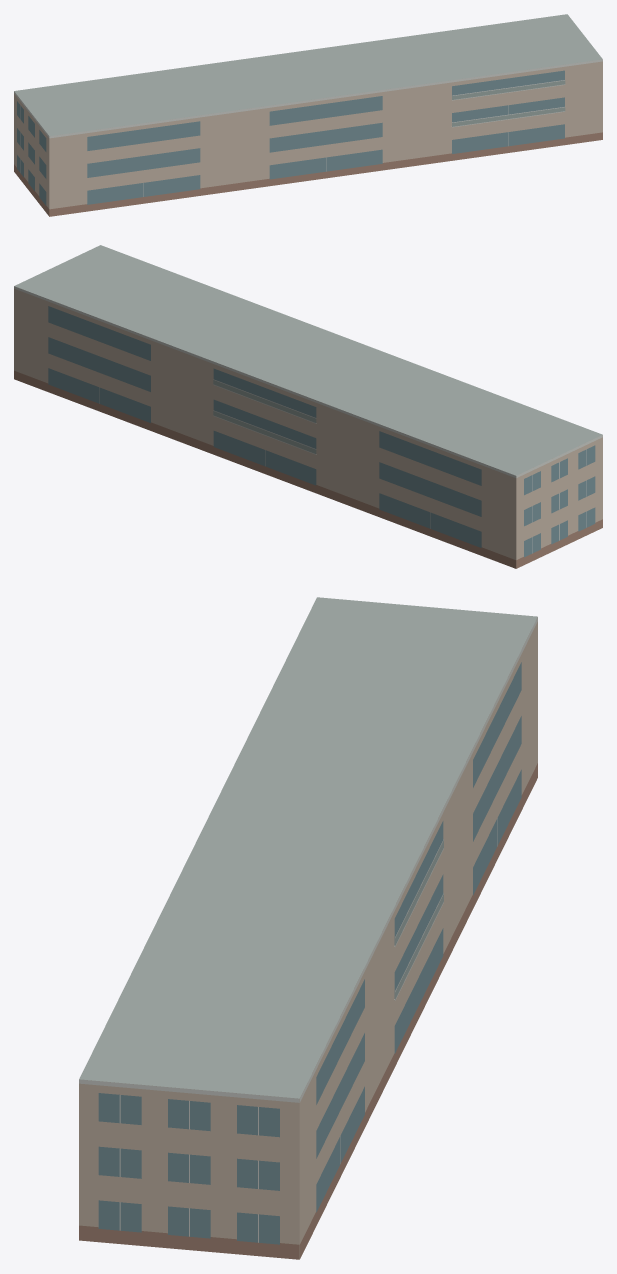
The model's file is survey-upis-32701566.glb.
3 renders of one model, top to bottom at view 1: azimuth 30°, elevation 25°; view 2: azimuth 150°, elevation 25°; view 3: azimuth 270°, elevation 25°, orthographic. The views are drawn at different scales.
Parts seen in each view (by area): view 1: survey-upis-32701566.tmp; view 2: survey-upis-32701566.tmp; view 3: survey-upis-32701566.tmp.
Part boxes in pixels (left/top/right/bottom): survey-upis-32701566.tmp: left=14, top=14, right=602, bottom=216; survey-upis-32701566.tmp: left=14, top=245, right=602, bottom=568; survey-upis-32701566.tmp: left=79, top=597, right=537, bottom=1259.
Bounding box in the file's own units: 61.08 × 9.15 × 23.63.
